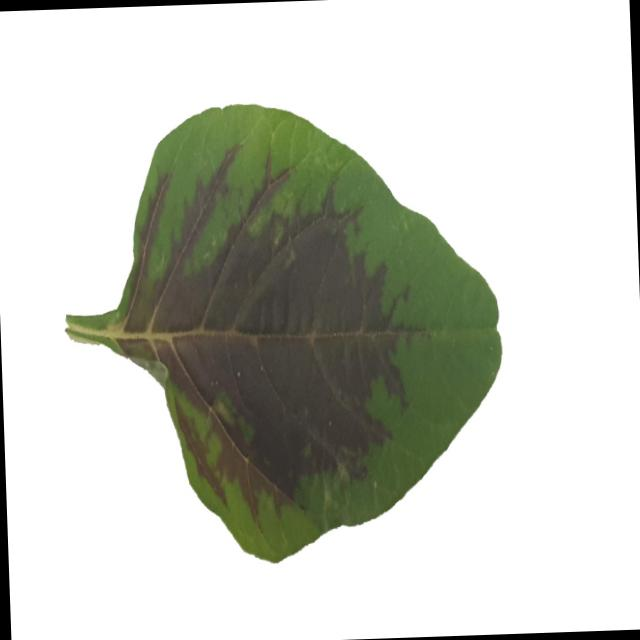Medicinal-Arive Dantu: (54, 97, 510, 570)
